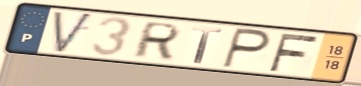3: (91, 16, 136, 59)
F: (266, 31, 322, 73)
P: (219, 26, 273, 71)
R: (129, 20, 184, 61)
T: (190, 25, 224, 66)
V: (51, 9, 97, 56)
